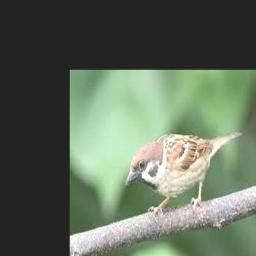Sparrow: (126, 131, 243, 215)
